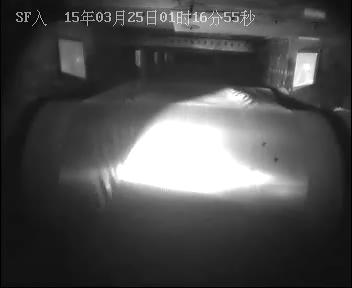wrinkled steel: (88, 150, 125, 215), (227, 82, 260, 110)
